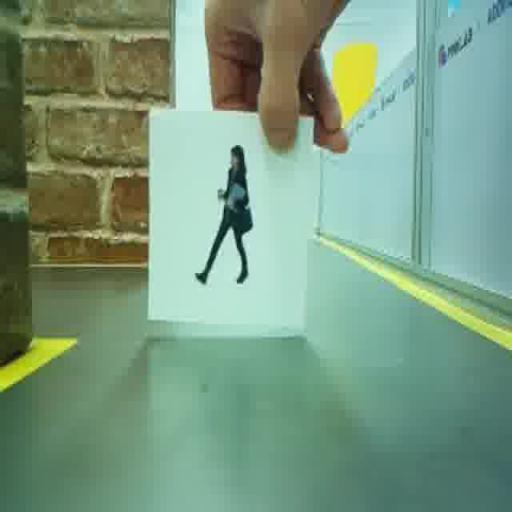human: (195, 145, 252, 283)
